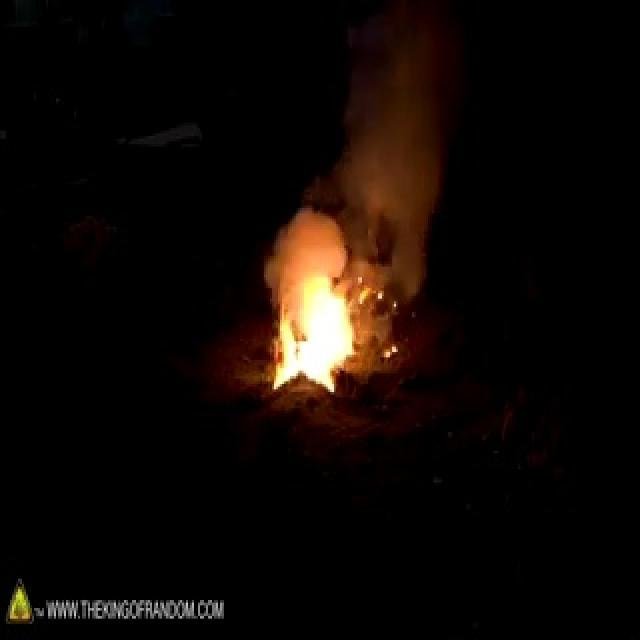Fire: (262, 262, 360, 394)
Smoke: (314, 2, 487, 239)
